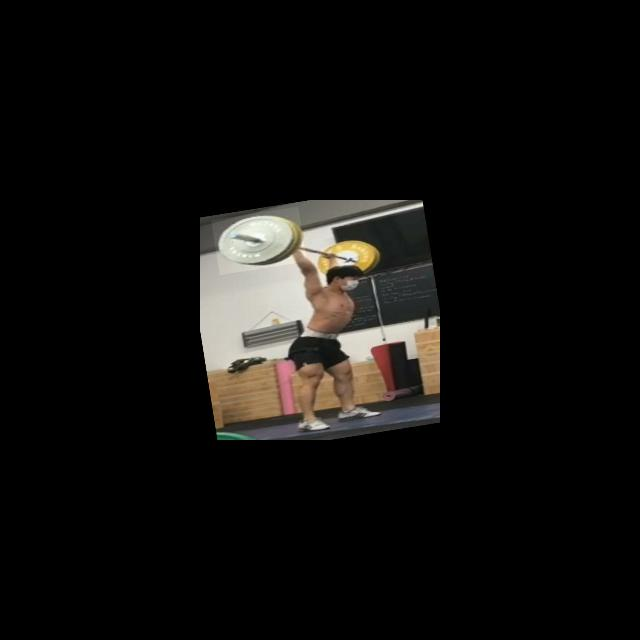barbell: (211, 207, 307, 275)
